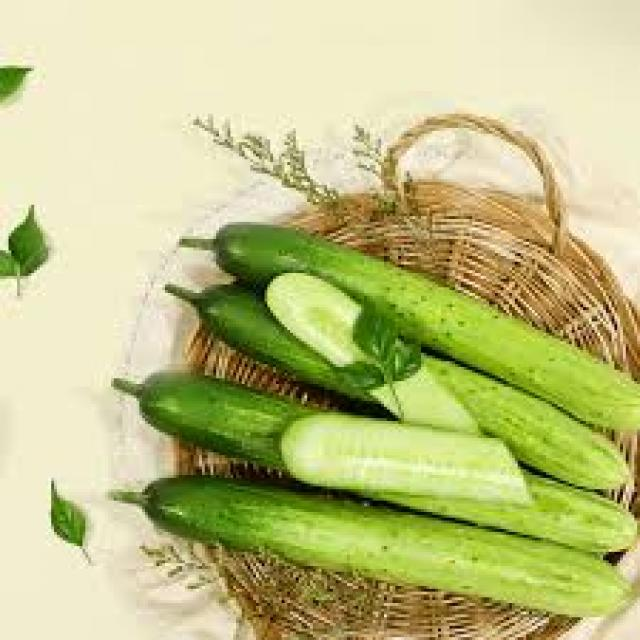cucumber: (119, 478, 634, 617)
